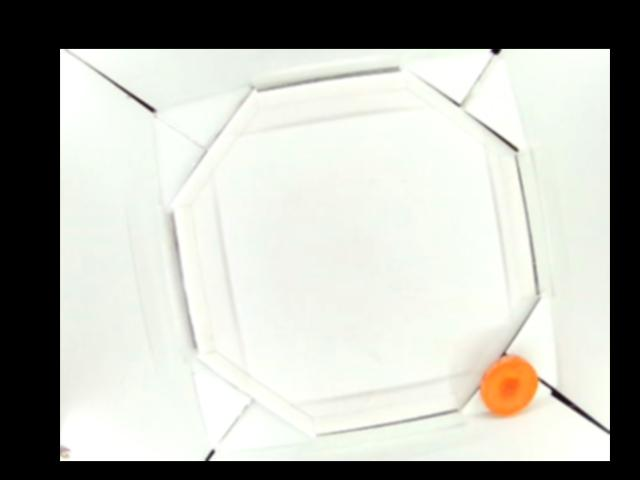Carrot: (480, 355, 539, 416)
